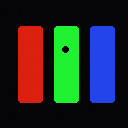0 point: (62, 46, 68, 52)
